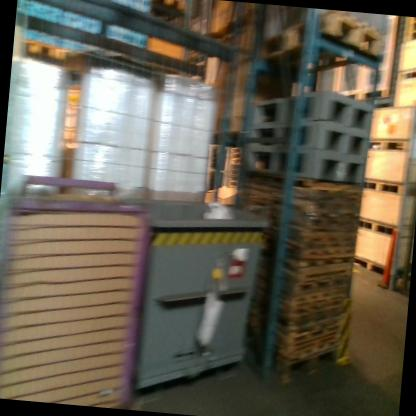pallet: (259, 6, 383, 79), (248, 336, 342, 381), (149, 0, 187, 19), (402, 22, 416, 43), (405, 17, 416, 35), (410, 17, 416, 24)
stillage: (0, 165, 166, 410)
